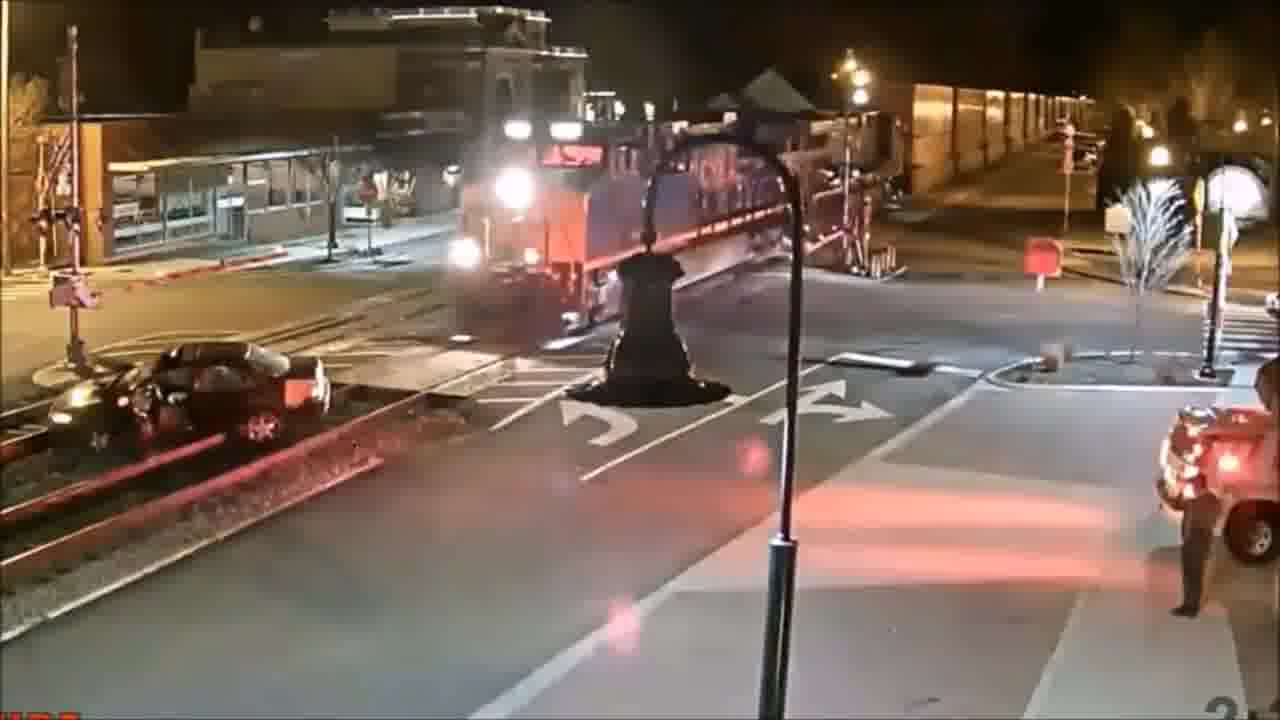crossing railway track: (34, 339, 350, 458)
